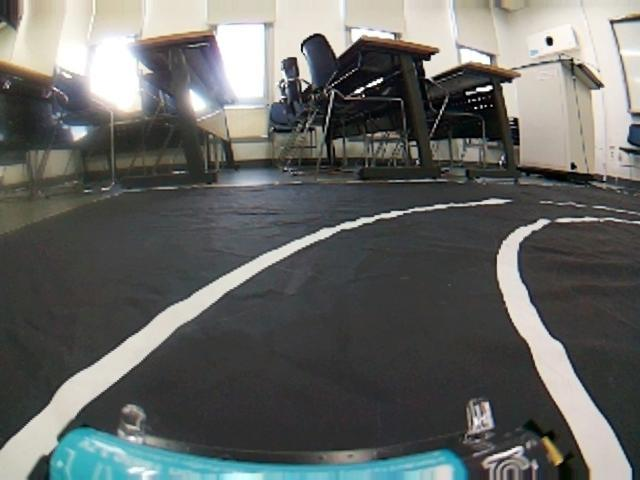right: (5, 196, 640, 476)
